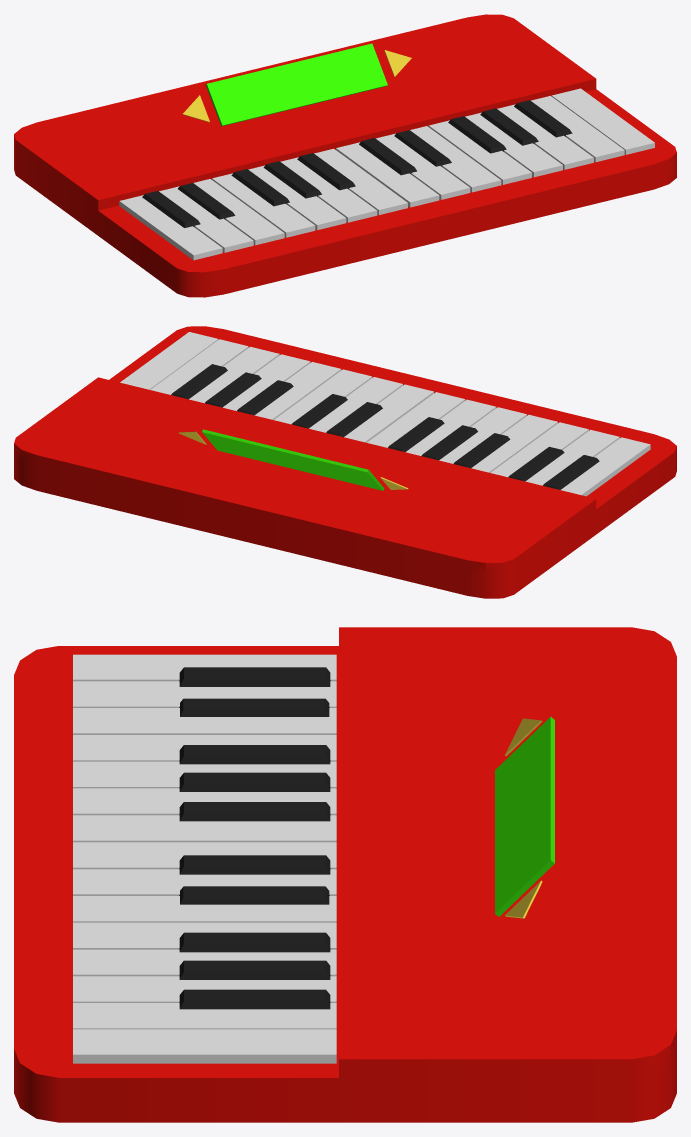
File: smaller_piano.gltf
3 renders of one model, top to bottom at view 1: azimuth 30°, elevation 25°; view 2: azimuth 150°, elevation 25°; view 3: azimuth 270°, elevation 25°, orthographic. The views are drawn at different scales.
Parts seen in each view (by area): view 1: Piano Frame, Screen, Key_C5, Key_C3, Key_C4, Key_B4, Key_B3, Key_F3, Key_F4, Key_E4, Key_E3, Key_D3 (+15 smaller); view 2: Piano Frame, Screen, Key_C5, Key_C3, Key_C4, Key_B3, Key_B4, Key_F4, Key_F3, Key_E4, Key_E3, Key_D3 (+15 smaller); view 3: Piano Frame, Key_C5, Screen, Key_B3, Key_B4, Key_E4, Key_E3, Key_C3, Key_C4, Key_D4, Key_D3, Key_F4 (+15 smaller).
Boxes of the visible parts, <box> form: Piano Frame: <box>14,14,676,297</box>; Screen: <box>205,43,387,126</box>; Key_C5: <box>551,88,654,154</box>; Key_C3: <box>119,195,222,260</box>; Key_C4: <box>336,142,439,207</box>; Key_B4: <box>531,96,624,162</box>; Key_B3: <box>314,148,407,214</box>; Key_F3: <box>212,173,315,237</box>; Key_F4: <box>428,120,531,184</box>; Key_E4: <box>410,126,501,192</box>; Key_E3: <box>193,179,284,245</box>; Key_D3: <box>159,186,253,252</box>; Piano Frame: <box>14,326,676,598</box>; Screen: <box>202,429,384,490</box>; Key_C5: <box>120,332,218,389</box>; Key_C3: <box>561,437,650,496</box>; Key_C4: <box>344,384,433,442</box>; Key_B3: <box>367,392,465,447</box>; Key_B4: <box>150,339,248,394</box>; Key_F4: <box>254,362,341,419</box>; Key_F3: <box>471,414,557,472</box>; Key_E4: <box>274,369,372,424</box>; Key_E3: <box>491,422,588,477</box>; Key_D3: <box>525,429,619,485</box>; Piano Frame: <box>14,627,676,1122</box>; Key_C5: <box>73,1029,336,1063</box>; Screen: <box>495,717,554,916</box>; Key_B3: <box>73,815,336,842</box>; Key_B4: <box>73,1003,336,1029</box>; Key_E4: <box>73,896,336,922</box>; Key_E3: <box>73,708,336,734</box>; Key_C3: <box>73,654,336,681</box>; Key_C4: <box>73,842,336,869</box>; Key_D4: <box>73,869,336,895</box>; Key_D3: <box>73,681,336,707</box>; Key_F4: <box>73,922,336,949</box>.
Bounding box in the file's own units: 4.26 × 0.5519 × 2.77.
